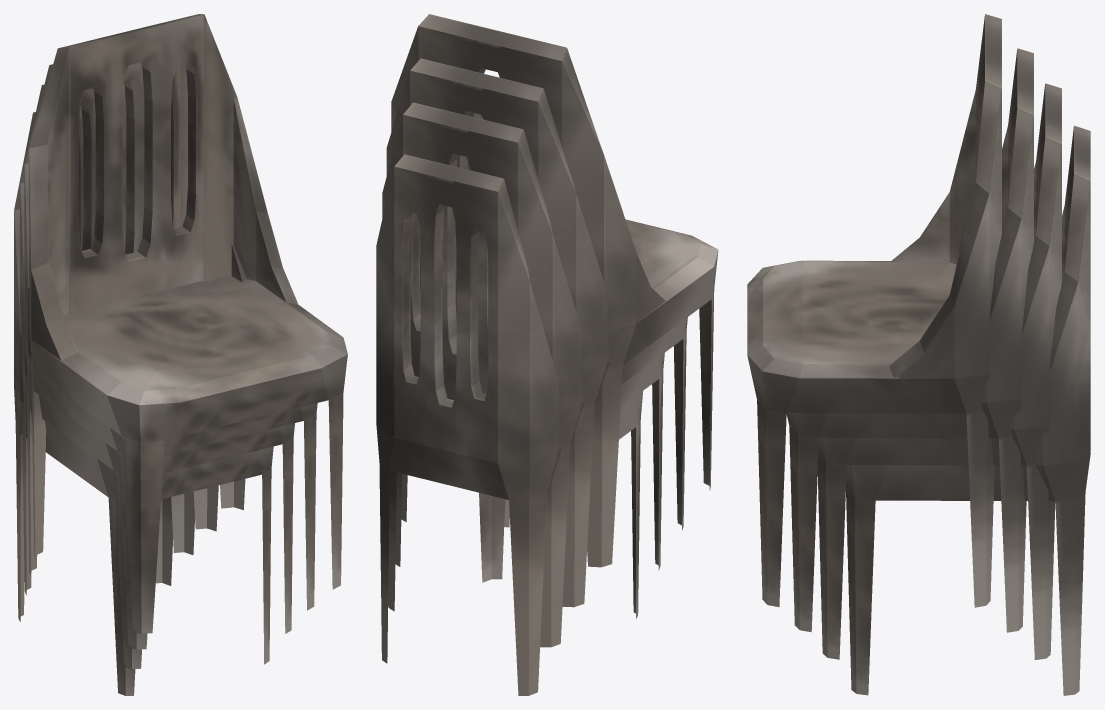
File: Chairs.fbx
3 renders of one model, left to right at view 1: azimuth 30°, elevation 25°; view 2: azimuth 150°, elevation 25°; view 3: azimuth 270°, elevation 25°, orthographic.
Parts seen in each view (by area): view 1: GardenChair; view 2: GardenChair; view 3: GardenChair.
Boxes of the visible parts, bbox=[...] form: GardenChair: bbox=[14, 14, 347, 695]; GardenChair: bbox=[376, 14, 718, 695]; GardenChair: bbox=[747, 14, 1090, 695].
Size of the model in its own units: 134 by 324 by 165.
